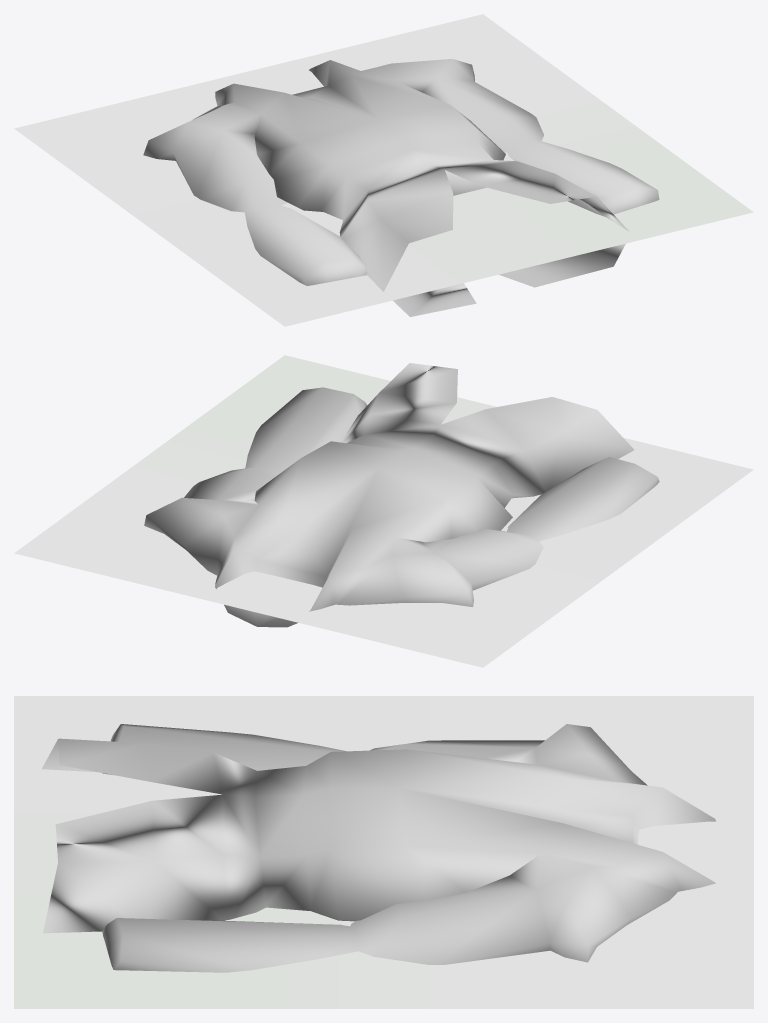
The model's file is ITAR_KM_VLK_11.glb.
3 views of the same model, one above another, from view 1: azimuth 30°, elevation 25°; view 2: azimuth 150°, elevation 25°; view 3: azimuth 270°, elevation 25° (orthographic). The views are drawn at different scales.
Visible parts, largest first — view 1: Mesh; view 2: Mesh; view 3: Mesh.
Boxes of the visible parts, x1,y1,x2,y2 form: Mesh: (14,14,753,326); Mesh: (14,355,753,667); Mesh: (14,696,753,1008).
Bounding box in the file's own units: 0.9022 × 0.1589 × 0.9022.
Materials: 2 (1 with a texture image).
